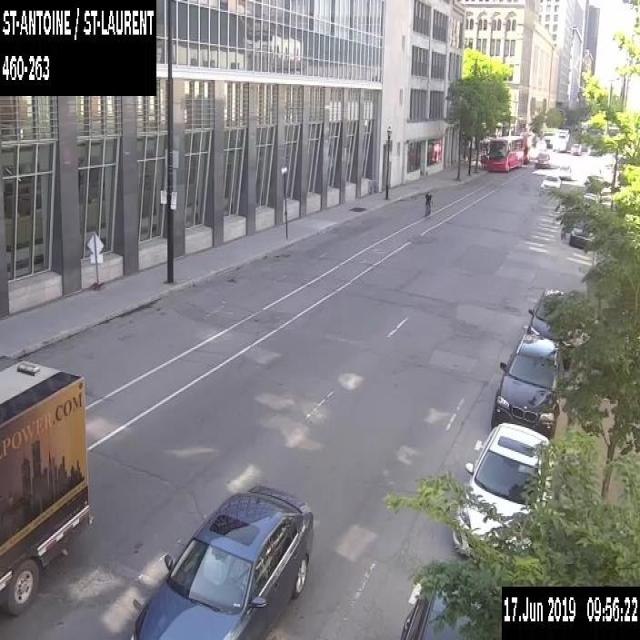bus: (485, 132, 529, 171)
construction: (85, 229, 104, 289)
pedestrian: (423, 190, 432, 218)
vehicle: (130, 482, 314, 638), (0, 352, 92, 616), (451, 420, 555, 562), (490, 331, 564, 438), (399, 587, 501, 639), (526, 286, 574, 369), (568, 221, 596, 250), (551, 128, 569, 150), (540, 173, 560, 191), (583, 172, 603, 190), (543, 126, 557, 148), (534, 151, 550, 167), (558, 162, 570, 180), (582, 190, 598, 201), (600, 188, 612, 200), (587, 144, 601, 154), (535, 139, 546, 150), (601, 196, 611, 208), (570, 143, 580, 153)
